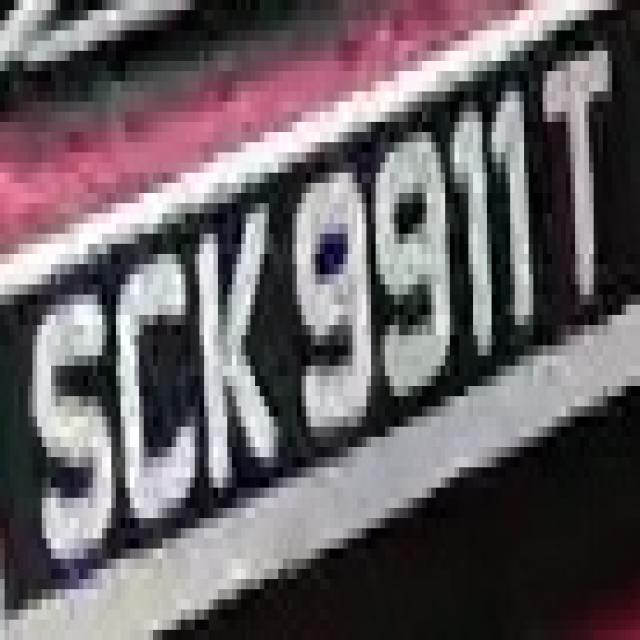1: (440, 102, 501, 386), (487, 81, 538, 325)
9: (357, 122, 450, 416), (278, 173, 366, 447)
C: (102, 234, 209, 528)
K: (190, 193, 297, 488)
S: (23, 254, 121, 559)
T: (534, 71, 622, 346)
